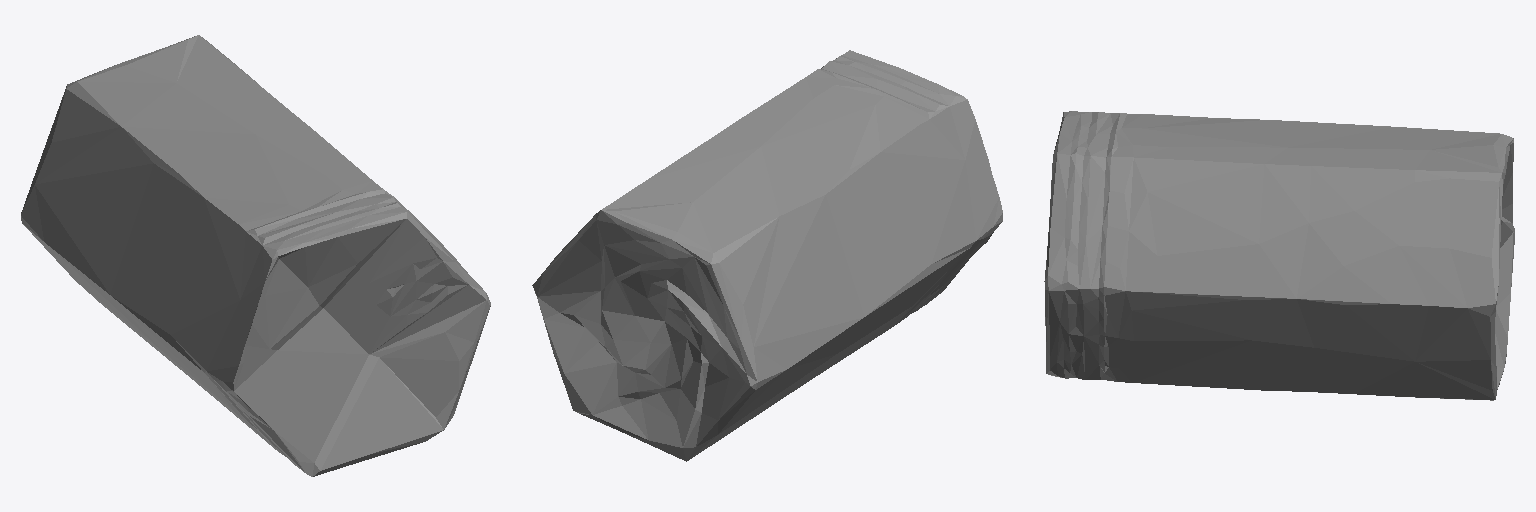
URDF robot description (cube.urdf):
<?xml version="0.0" ?> 
<robot name="cube.urdf"> 
<link name="legobrick"> 
<contact> 
<lateral_friction value="1.0"/>
<rolling_friction value="0.0"/>
<contact_cfm value="0.0"/>
<contact_erp value="1.0"/>
</contact> 
<inertial> 
<origin rpy="0 0 0" xyz="0.0 0.0 0.0"/> 
<mass value="0.1"/> 
<inertia ixx="1" ixy="0" ixz="0" iyy="1" iyz="0" izz="1"/> 
</inertial> 
<visual> 
<origin rpy="1.570796 0 0" xyz="-0.002692190954773868 0.008697555276381911 -0.00016359547738693632"/> 
<geometry> 
<mesh filename="Wafflerolls_800_tex.obj" scale="1 1 1"/> 
</geometry> 
<material name="yellow"> 
<color rgba="0.6 0.6 0.6 1"/> 
</material> 
</visual> 
<collision> 
<origin rpy="1.570796 0 0" xyz="-0.002692190954773868 0.008697555276381911 -0.00016359547738693632"/> 
<geometry> 
<mesh filename="Wafflerolls_800_tex_col.obj" scale="1 1 1"/> 
</geometry> 
</collision> 
</link> 
</robot>

--- What the picture shows (computed from the rendered views, not written in the file) ---
Views: 3 orthographic renders of the robot side by side, from view 1: azimuth 30°, elevation 25°; view 2: azimuth 150°, elevation 25°; view 3: azimuth 270°, elevation 25°.
Model cube.urdf with 1 links and 0 joints (none), rooted at legobrick, posed all joints at 0.
Visible links, largest first — view 1: legobrick; view 2: legobrick; view 3: legobrick.
Link boxes in pixels (x1,y1,x2,y2): legobrick: (21,35,490,476); legobrick: (532,50,1002,461); legobrick: (1044,111,1514,400).
Bounding box of the posed robot: 0.045 × 0.0709 × 0.0394 m (x, y, z).
Meshes: 1 distinct files referenced, 1 mesh visuals loaded (1 OBJ).